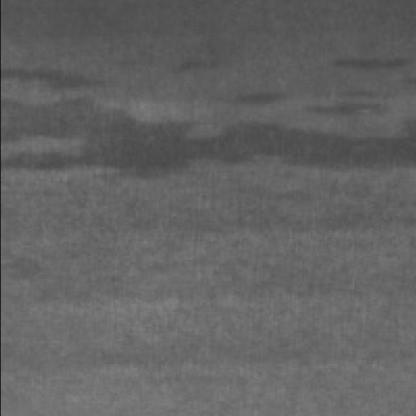inclusion: (0, 94, 408, 174), (0, 52, 104, 94)
